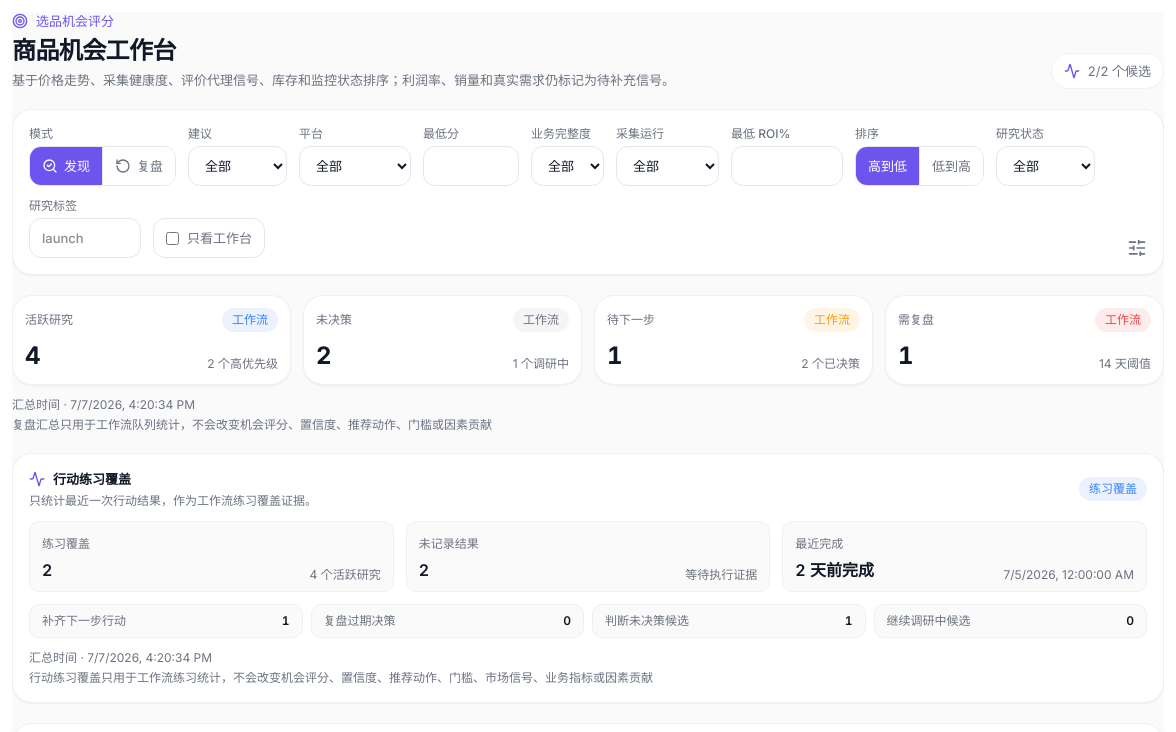
Test case: Opportunities page › does not mark review summary cards active for narrowed views
The width and height of the screenshot is (1176, 732).
Click the button with aria-label "筛选复盘汇总：需复盘" at (916, 320), box [885, 295, 1164, 385]
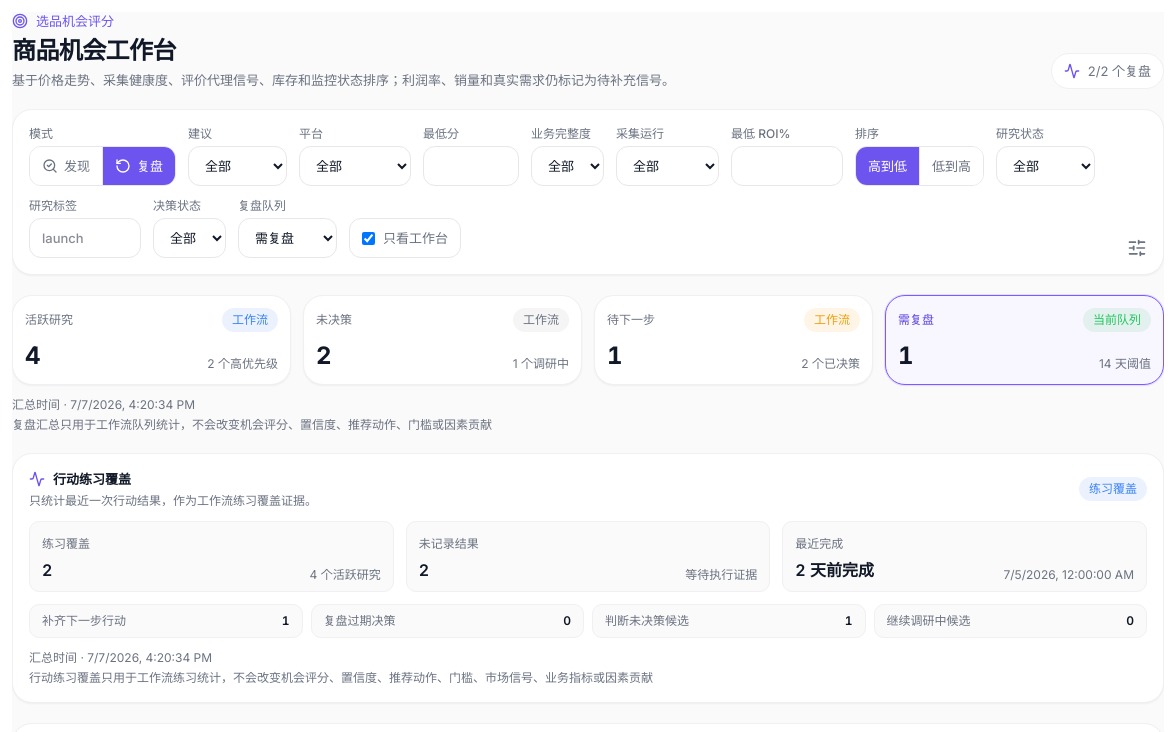
expect the button with aria-label "筛选复盘汇总：需复盘" is pressed: met, box [885, 295, 1164, 385]
Select "准备推进" in the dropdown named "研究状态筛选" at (1046, 166), box [996, 146, 1095, 186]
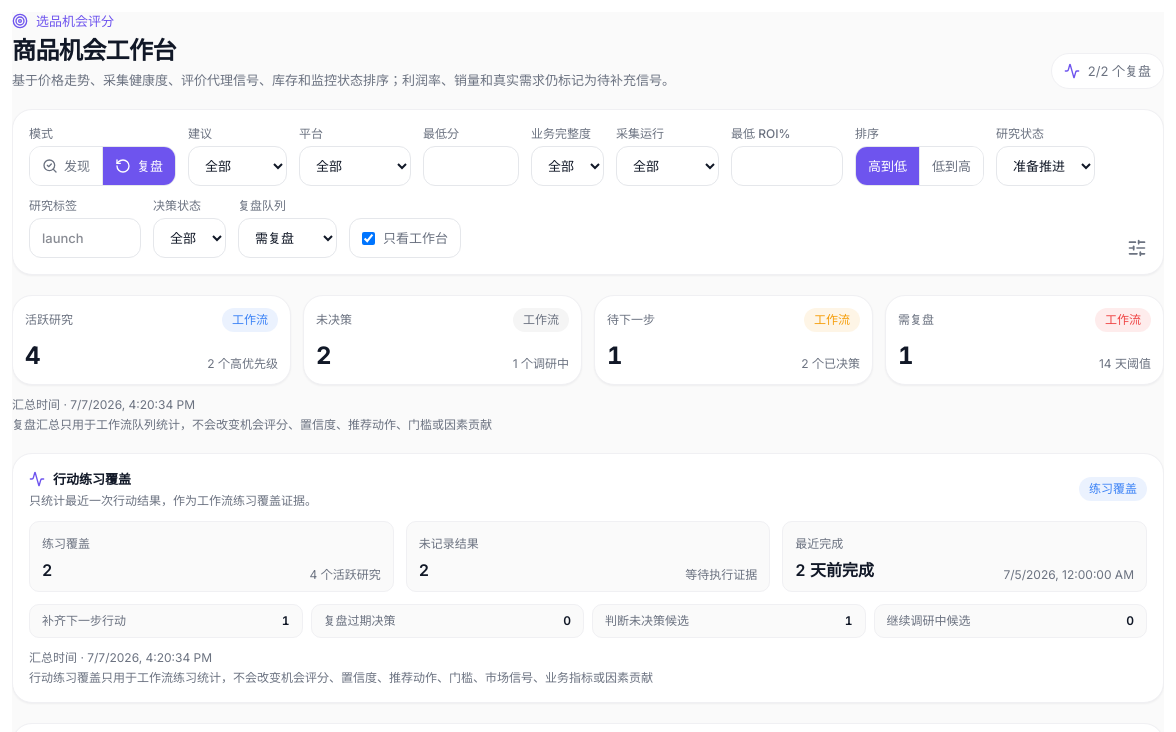
expect the button "当前队列" is gone: met
